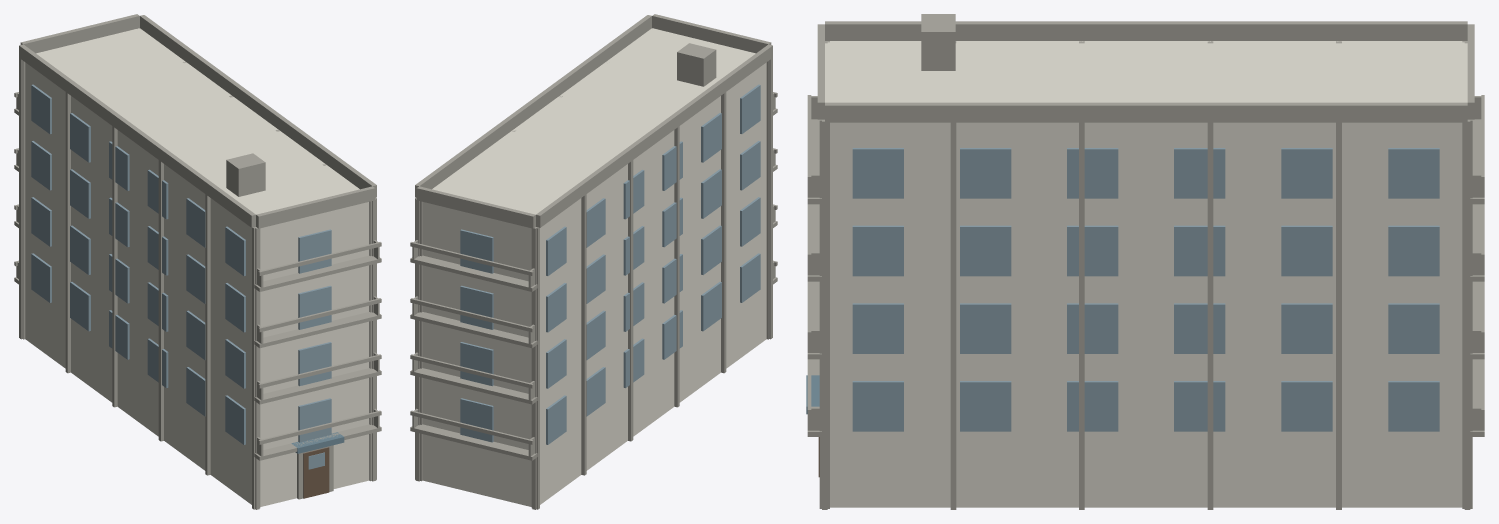
The model's file is residential_1x3_b.glb.
3 views of the same model, side by side, from view 1: azimuth 30°, elevation 25°; view 2: azimuth 150°, elevation 25°; view 3: azimuth 270°, elevation 25° (orthographic). The views are drawn at different scales.
Visible parts, largest first — view 1: residential_1x3_b_0; view 2: residential_1x3_b_0; view 3: residential_1x3_b_0.
Boxes of the visible parts, x1,y1,x2,y2 form: residential_1x3_b_0: (14, 14, 381, 509); residential_1x3_b_0: (410, 14, 777, 509); residential_1x3_b_0: (806, 14, 1484, 509).
Bounding box in the file's own units: 7 × 16.5 × 23.75.
